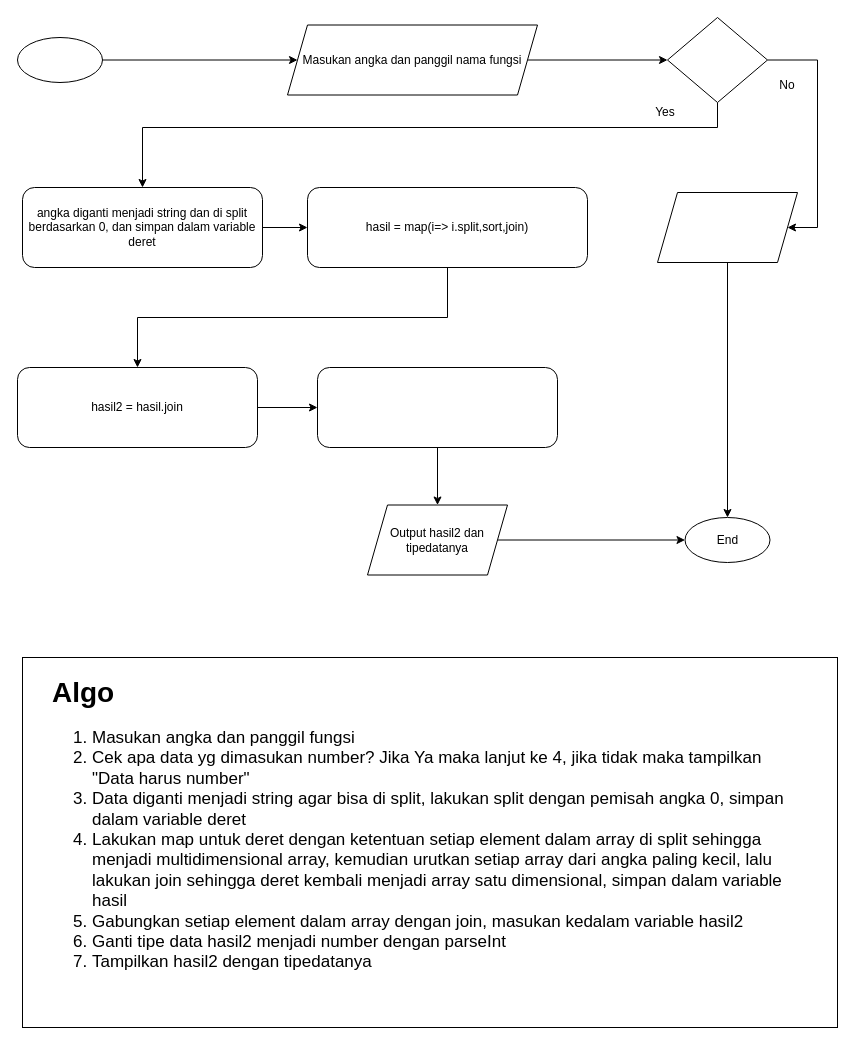
Image size: 855x1045. Some labels were removed from this diagram. The centre of each missing label's shape, as x and y in pixels:
Apa Number?: the point at 717,59
hasil2= parseInt(hasil2): the point at 437,407
Output " Data harus Number ": the point at 727,227
Start: the point at 59,59
